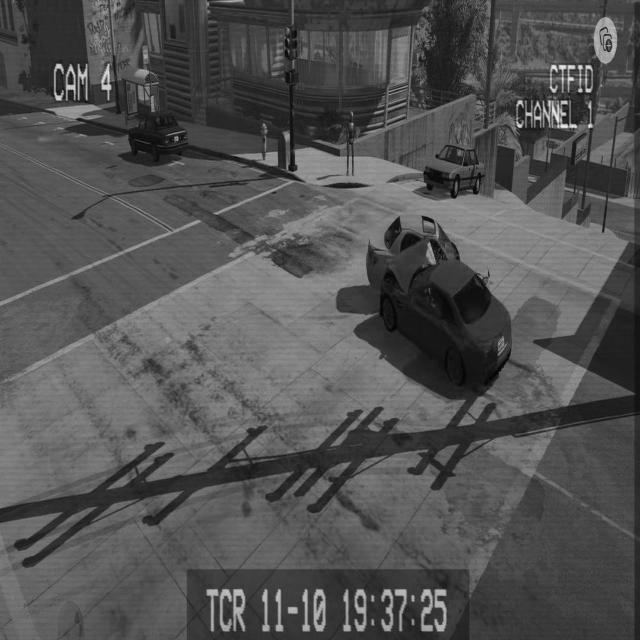accident: (366, 209, 512, 396)
vehicle: (422, 137, 484, 204), (130, 107, 188, 168)
